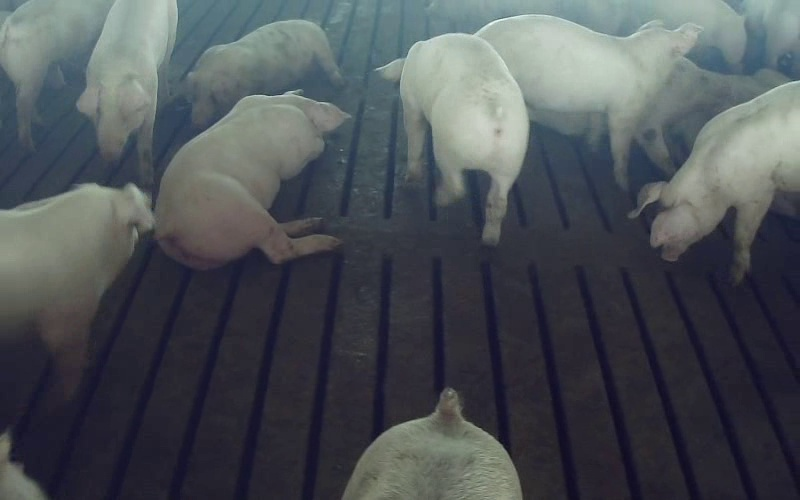pig: (477, 15, 701, 189), (629, 81, 799, 283), (156, 93, 349, 269), (0, 184, 153, 396), (379, 33, 528, 245), (77, 0, 176, 189), (185, 20, 342, 126)
